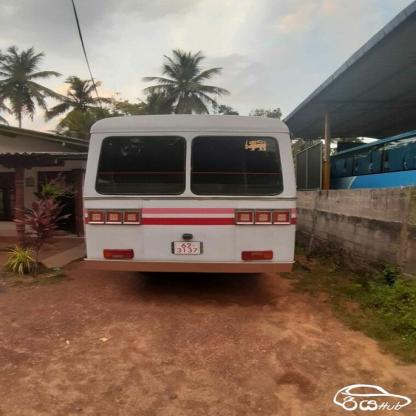bus back: (81, 110, 295, 280)
number plate: (172, 243, 205, 256)
